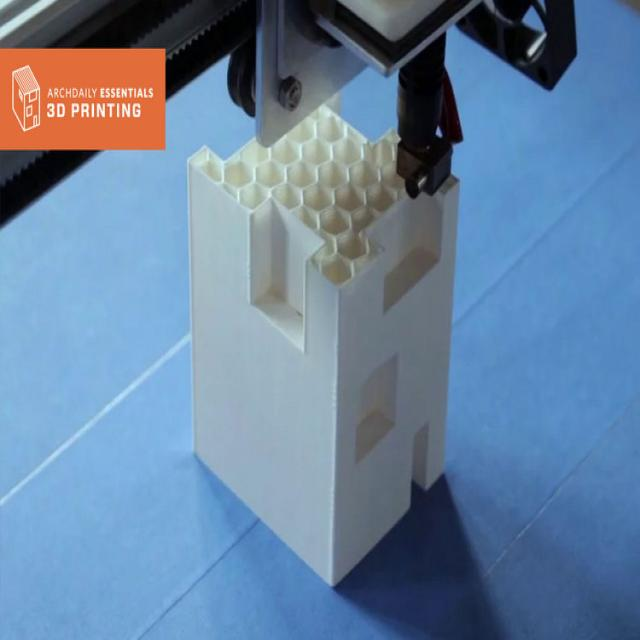Without deffect: (182, 91, 467, 596)
